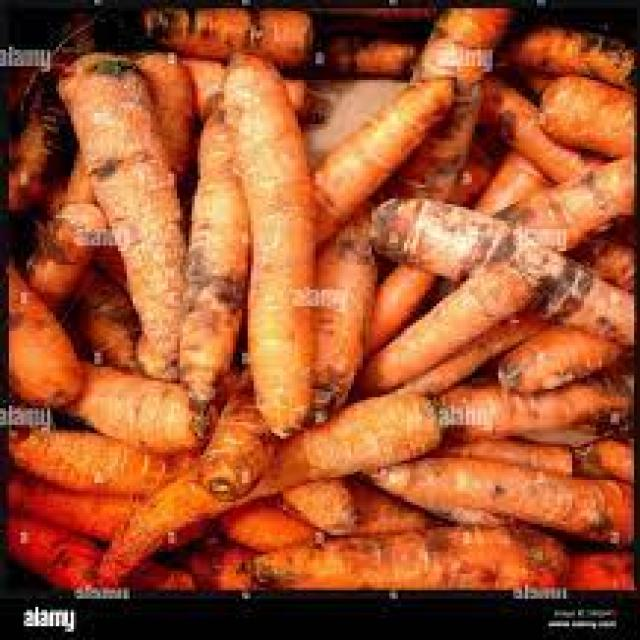Stale_Carrot: (55, 53, 188, 369), (180, 111, 253, 423), (374, 211, 623, 293), (251, 527, 551, 594), (185, 379, 264, 497)
